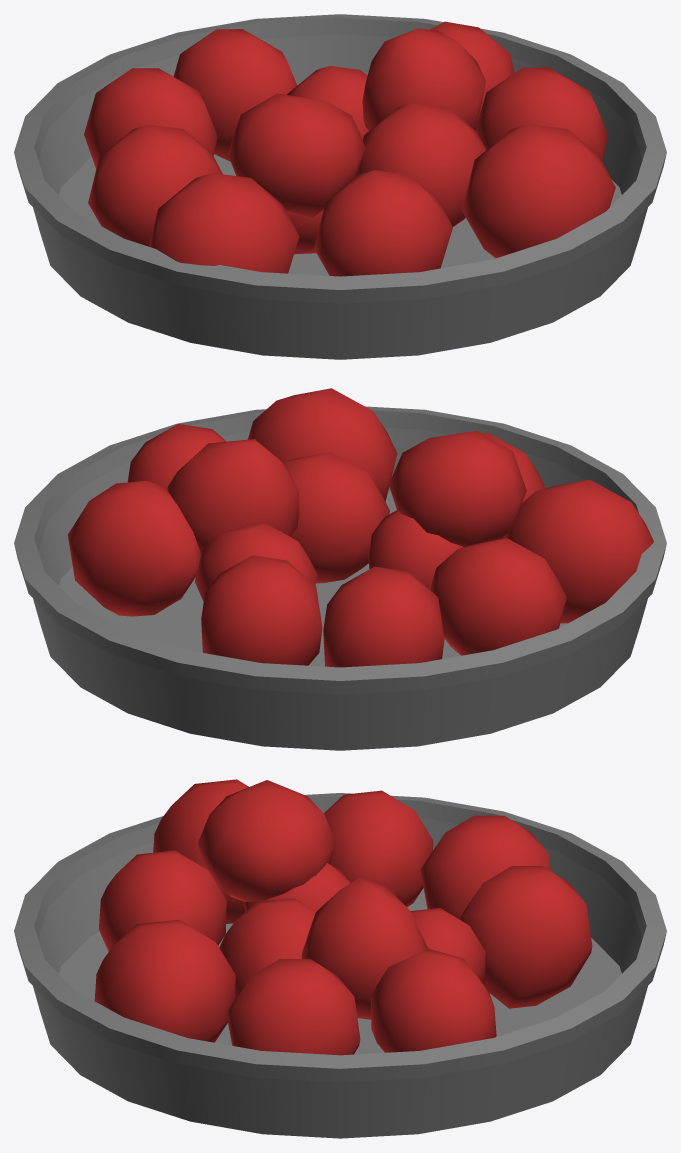
File: SM_basket_fruits_01.fbx
3 renders of one model, top to bottom at view 1: azimuth 30°, elevation 25°; view 2: azimuth 150°, elevation 25°; view 3: azimuth 270°, elevation 25°, orthographic.
Visible parts, largest first — view 1: Object32630; view 2: Object32630; view 3: Object32630.
Part boxes in pixels (x1=…): Object32630: x1=14, y1=14, x2=666, y2=359; Object32630: x1=14, y1=388, x2=666, y2=750; Object32630: x1=14, y1=779, x2=666, y2=1138.
Bounding box in the file's own units: 27.2 × 8.35 × 27.2.
